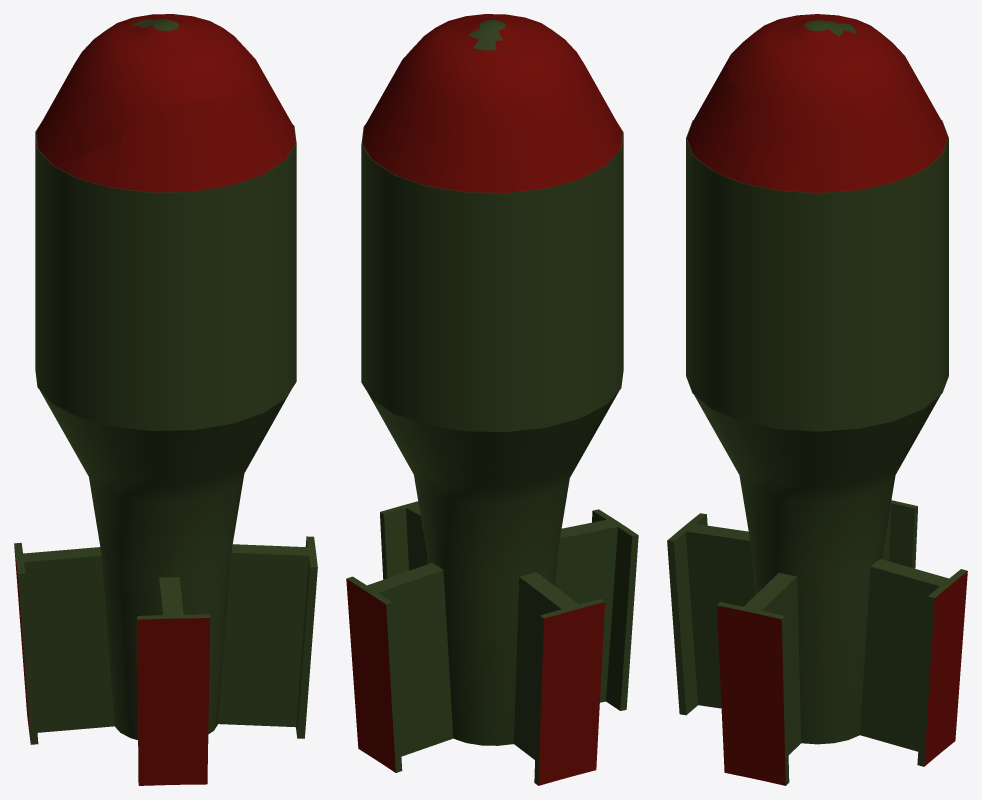
Rendered from Bomb.fbx.
3 renders of one model, left to right at view 1: azimuth 30°, elevation 25°; view 2: azimuth 150°, elevation 25°; view 3: azimuth 270°, elevation 25°, orthographic.
Parts seen in each view (by area): view 1: pCone3; view 2: pCone3; view 3: pCone3.
Boxes of the visible parts, x1=… form: pCone3: x1=14, y1=14, x2=317, y2=785; pCone3: x1=346, y1=14, x2=638, y2=785; pCone3: x1=667, y1=14, x2=967, y2=785.
Bounding box in the file's own units: 2.29 × 5.91 × 2.29.
